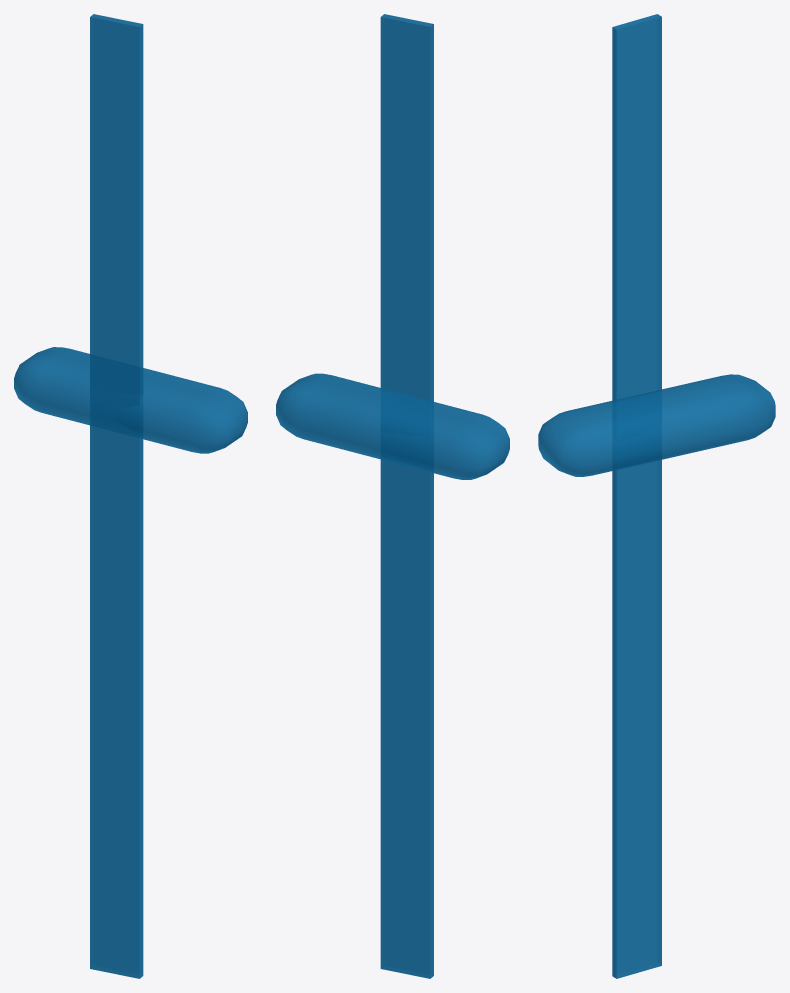
The model's file is collective_control.FBX.
The picture shows the model from 3 angles, left to right: view 1: azimuth 30°, elevation 25°; view 2: azimuth 210°, elevation 25°; view 3: azimuth 270°, elevation 25°; orthographic projection.
Visible parts, largest first — view 1: Box002, ChamferBox001; view 2: Box002, ChamferBox001; view 3: Box002, ChamferBox001.
Part boxes in pixels (box(x1,y1,x2,y2)): Box002: box(90, 14, 143, 978); ChamferBox001: box(14, 347, 247, 453); Box002: box(380, 14, 433, 978); ChamferBox001: box(276, 373, 509, 479); Box002: box(612, 14, 661, 978); ChamferBox001: box(538, 374, 775, 476).
Size of the model in its own units: 3.84 by 24.66 by 5.59.
